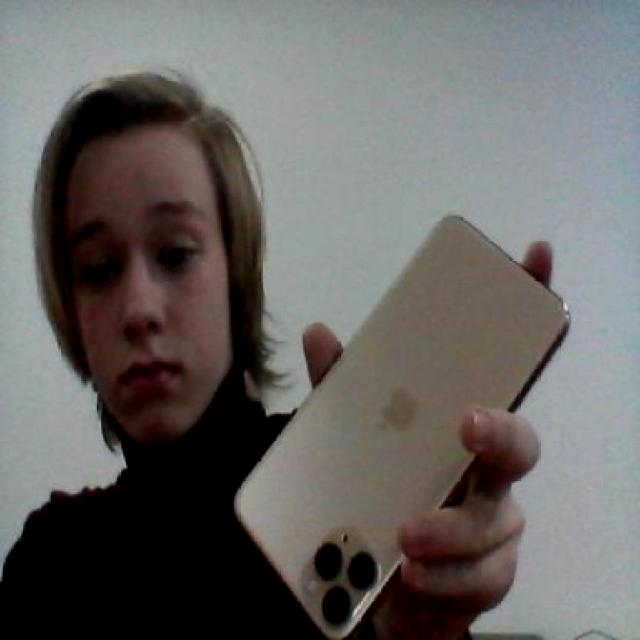phone: (224, 189, 584, 628)
